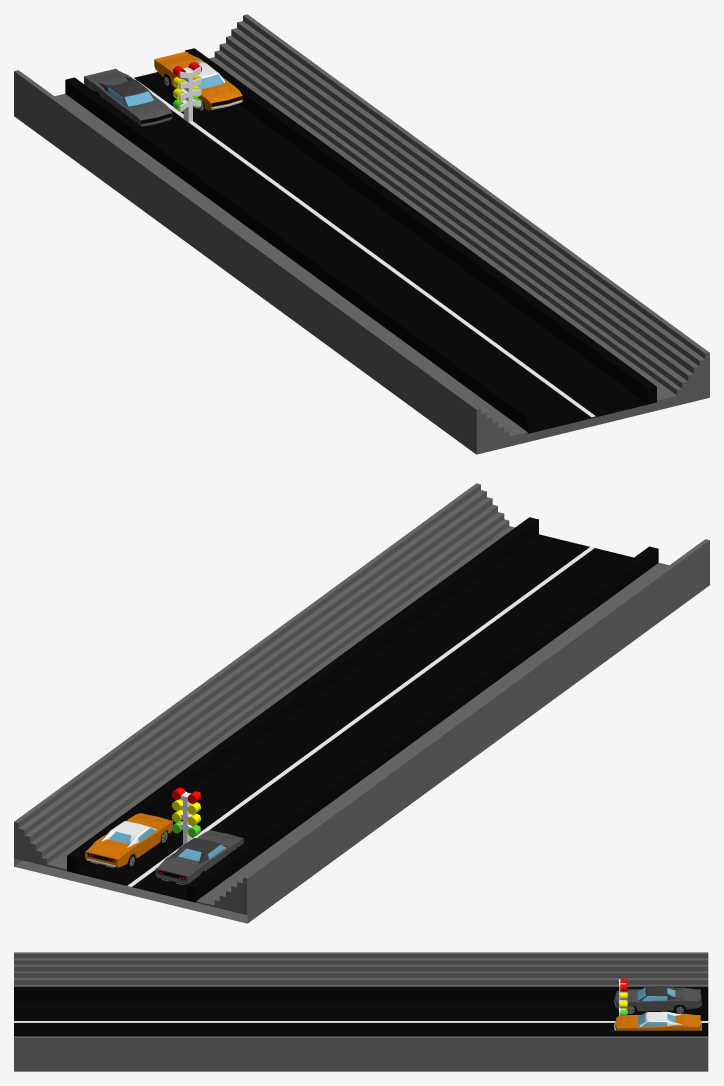
File: drag_strip.FBX
3 renders of one model, top to bottom at view 1: azimuth 30°, elevation 25°; view 2: azimuth 150°, elevation 25°; view 3: azimuth 270°, elevation 25°, orthographic. The views are drawn at different scales.
Visible parts, largest first — view 1: drag_strip; view 2: drag_strip; view 3: drag_strip.
Boxes of the visible parts, x1,y1,x2,y2 form: drag_strip: [14, 14, 709, 454]; drag_strip: [14, 483, 709, 923]; drag_strip: [14, 952, 709, 1071].
Bounding box in the file's own units: 54.31 × 187 × 13.96.
